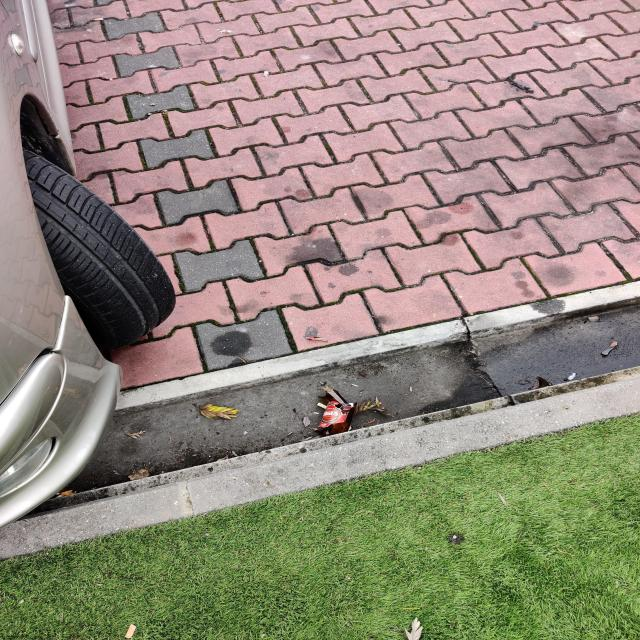litter: (300, 388, 363, 444)
